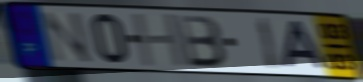0: (90, 12, 130, 66)
A: (281, 19, 330, 72)
B: (175, 14, 229, 70)
H: (130, 12, 190, 69)
I: (256, 16, 282, 73)
N: (40, 10, 95, 65)
